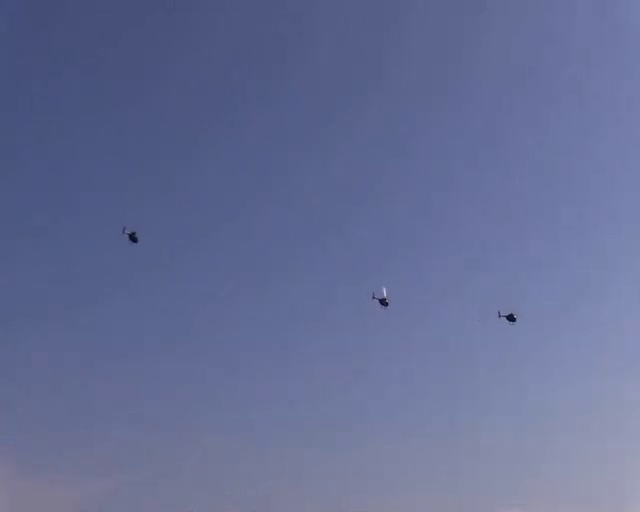HELICOPTER: (497, 310, 517, 324)
